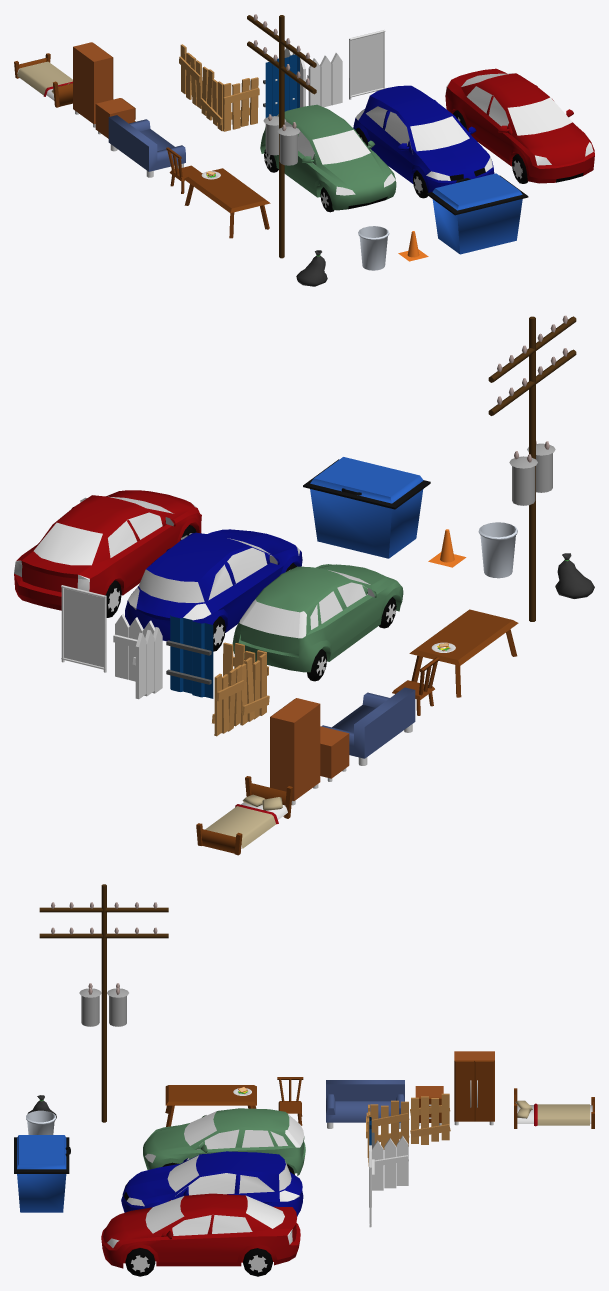
Rendered from предметы.fbx.
The picture shows the model from 3 angles, top to bottom: view 1: azimuth 30°, elevation 25°; view 2: azimuth 150°, elevation 25°; view 3: azimuth 270°, elevation 25°; orthographic projection. The views are drawn at different scales.
Visible parts, largest first — view 1: MESH_LargerBody, Plane.003, MESH_CompactBody, мусорка большая, Cylinder.001, шкаф.002, диван, стол, Cylinder, кровать, Cube, Cube.004 (+7 smaller); view 2: MESH_LargerBody, MESH_CompactBody, Plane.003, мусорка большая, Cylinder.001, шкаф.002, кровать, диван, Cylinder, стол, Plane.001, мусорка (+8 smaller); view 3: MESH_LargerBody, Plane.003, MESH_CompactBody, Cylinder.001, мусорка большая, шкаф.002, диван, стол, кровать, Cube.005, Cube.003, Cube.002 (+2 smaller).
Boxes of the visible parts, <box> form: MESH_LargerBody: <box>445,68,594,183</box>; Plane.003: <box>353,85,494,198</box>; MESH_CompactBody: <box>260,104,396,212</box>; мусорка большая: <box>426,173,528,254</box>; Cylinder.001: <box>247,14,316,258</box>; шкаф.002: <box>73,42,113,127</box>; диван: <box>108,115,185,177</box>; стол: <box>184,168,270,238</box>; Cylinder: <box>349,30,385,99</box>; кровать: <box>14,53,72,107</box>; Cube: <box>222,77,259,131</box>; Cube.004: <box>307,53,342,107</box>; MESH_LargerBody: <box>14,490,201,617</box>; MESH_CompactBody: <box>232,564,403,681</box>; Plane.003: <box>125,529,302,651</box>; мусорка большая: <box>303,457,430,558</box>; Cylinder.001: <box>488,315,576,621</box>; шкаф.002: <box>270,698,320,805</box>; кровать: <box>196,776,292,855</box>; диван: <box>321,687,415,765</box>; Cylinder: <box>61,585,106,672</box>; стол: <box>409,609,518,697</box>; Plane.001: <box>166,615,213,698</box>; мусорка: <box>478,522,517,578</box>; MESH_LargerBody: <box>101,1193,300,1276</box>; Plane.003: <box>121,1151,303,1216</box>; MESH_CompactBody: <box>143,1108,305,1175</box>; Cylinder.001: <box>39,884,168,1122</box>; мусорка большая: <box>14,1135,70,1212</box>; шкаф.002: <box>454,1051,494,1125</box>; диван: <box>326,1080,404,1128</box>; стол: <box>165,1085,256,1126</box>; кровать: <box>514,1088,594,1128</box>; Cube.005: <box>372,1135,408,1190</box>; Cube.003: <box>410,1093,450,1144</box>; Cube.002: <box>370,1100,409,1149</box>.
Bounding box in the file's own units: 901 × 605 × 1337.
